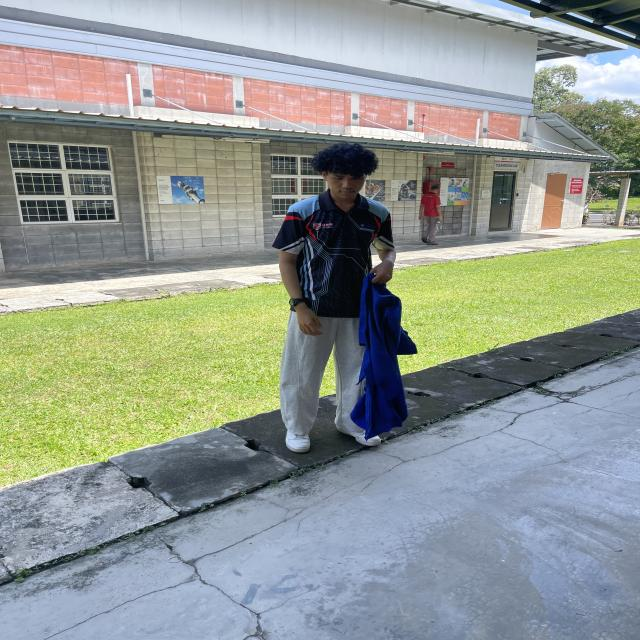person_without_labcoat: (273, 143, 417, 453)
